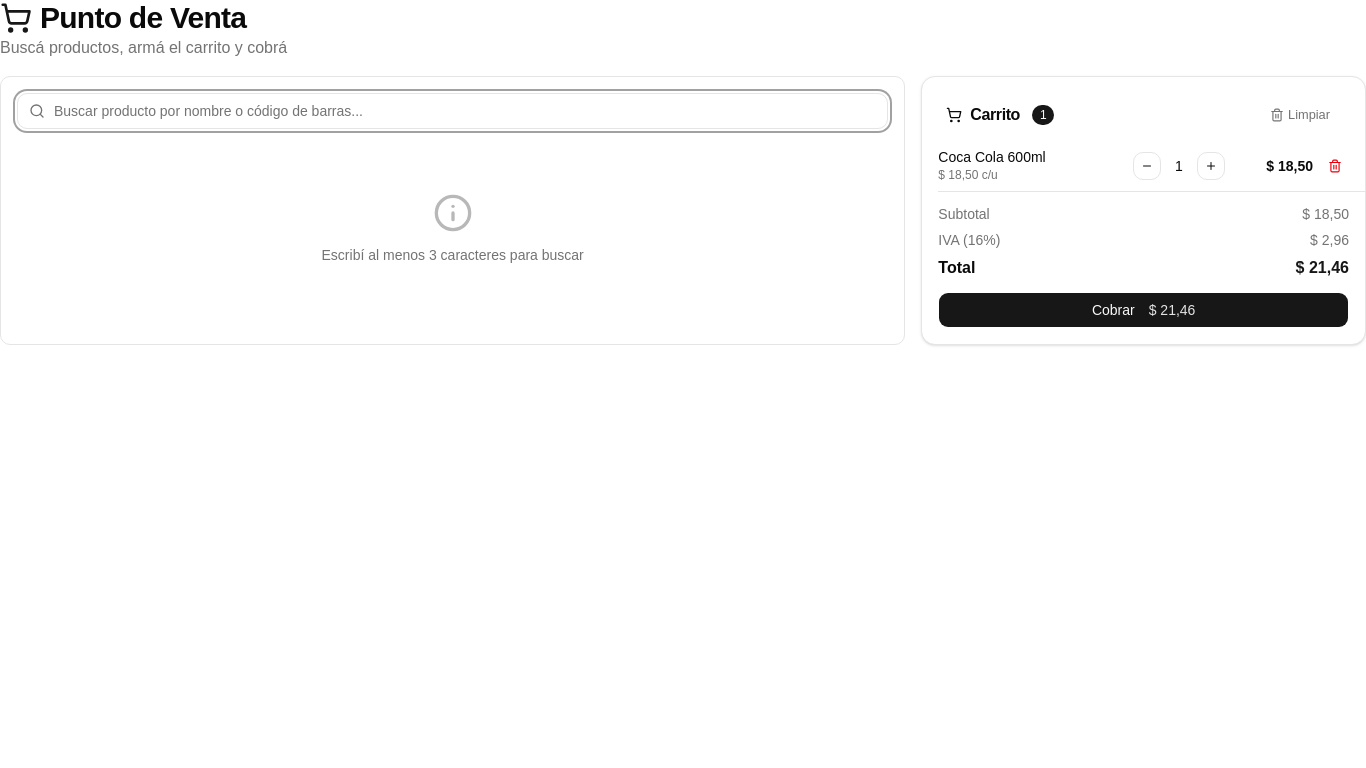
Test: SalesPage integration › cash payment enables confirmation when amount covers the total
Click the button "Cobrar $ 21,46" at (1113, 310), box [938,292,1349,328]
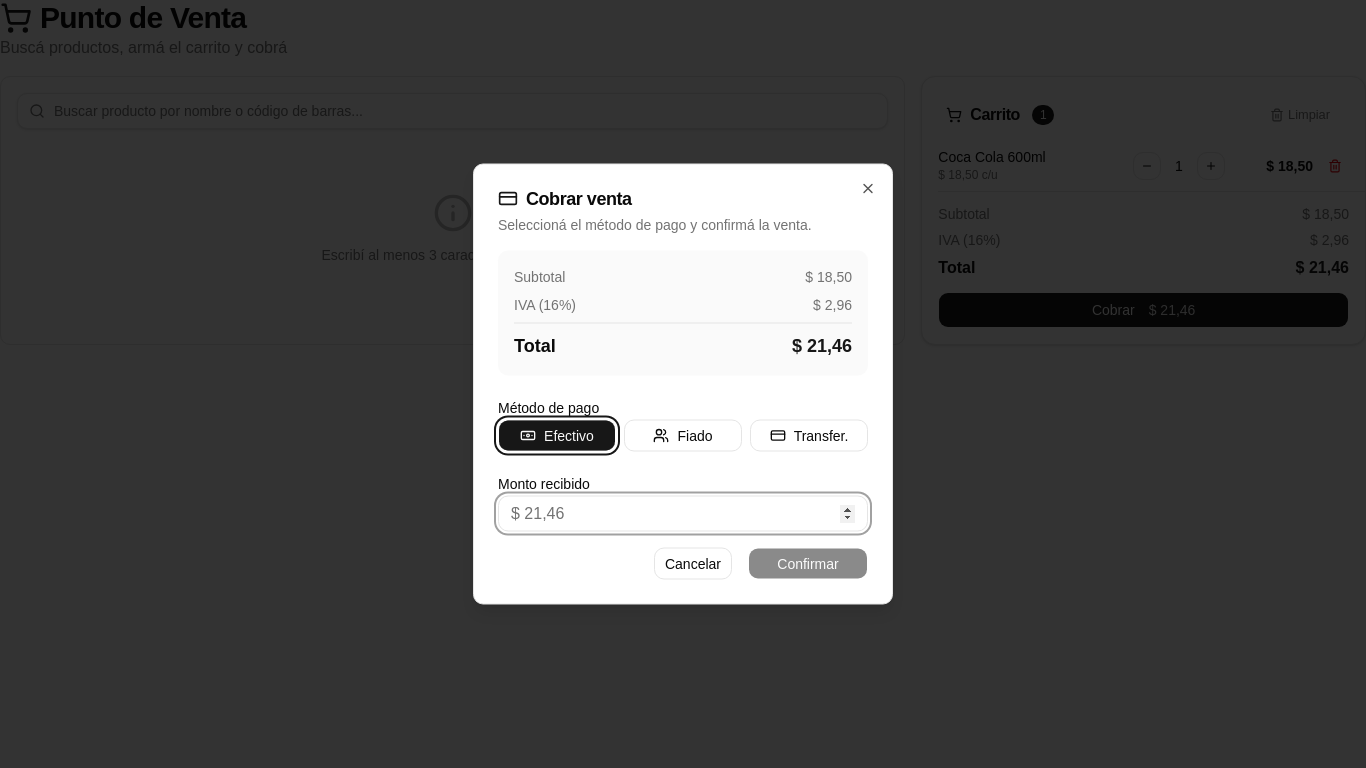
Ingresar monto suficiente (total ≈ $21.46 → pagar $50)
Type "50" into the number field labelled "Monto recibido" at (683, 514), box [498,496,868,532]
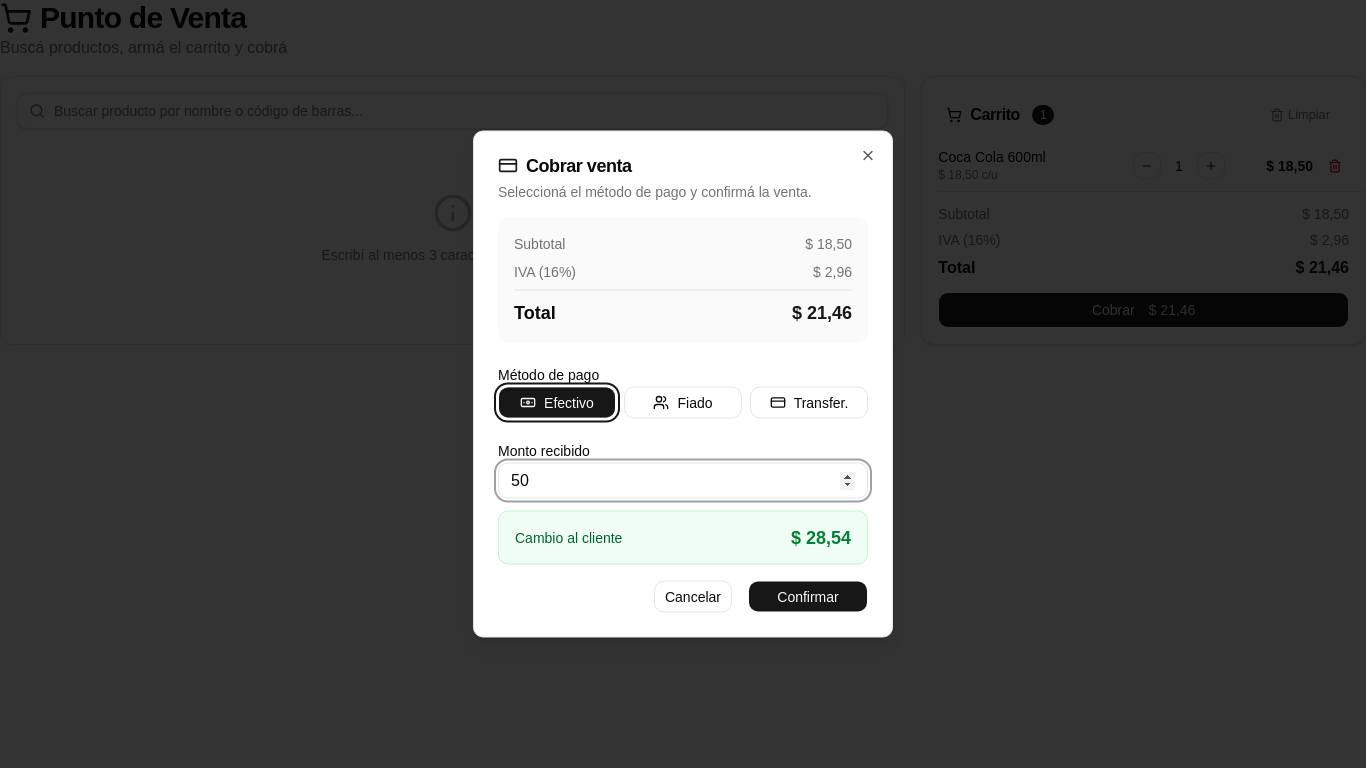
Expected: the button "Confirmar" is enabled, [748,580,868,612]
